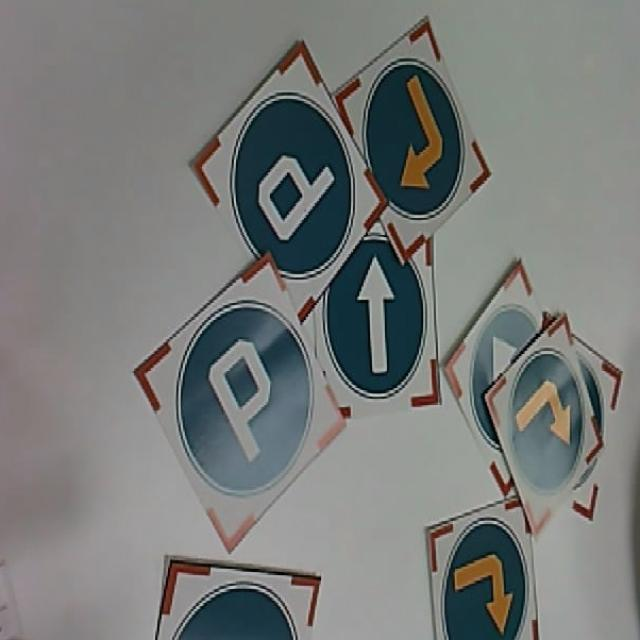parking: (130, 271, 345, 551), (190, 47, 380, 318)
turn: (338, 21, 487, 262)
